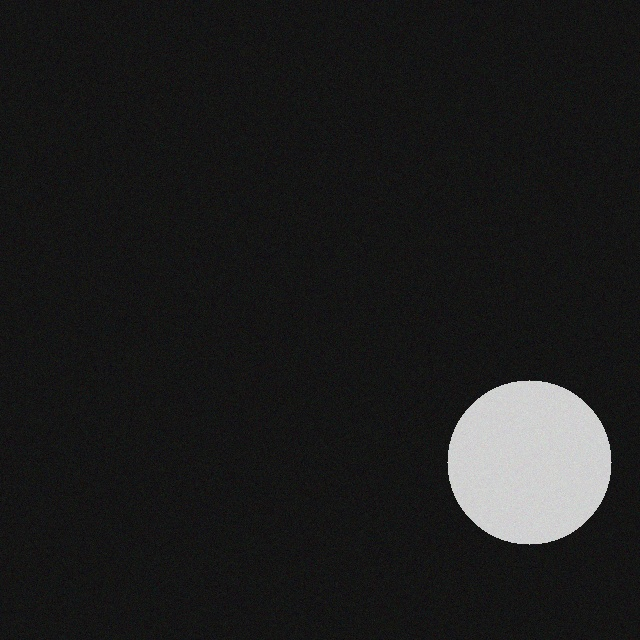circle: (459, 379, 623, 543)
